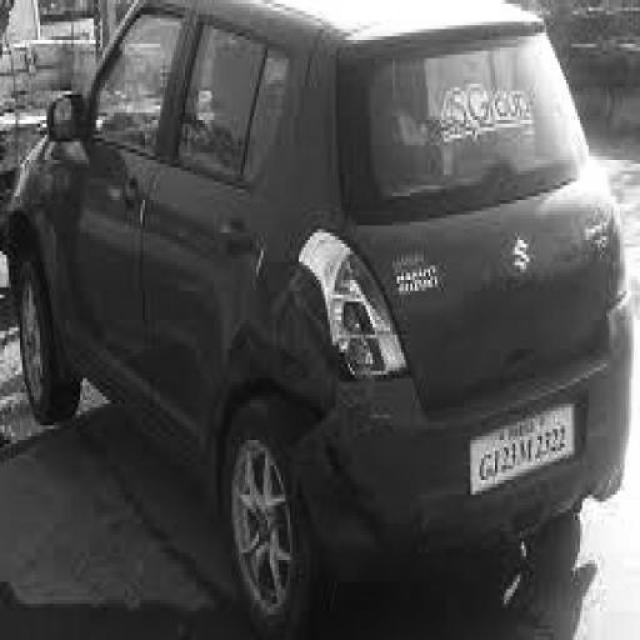car damage: (209, 255, 406, 547)
